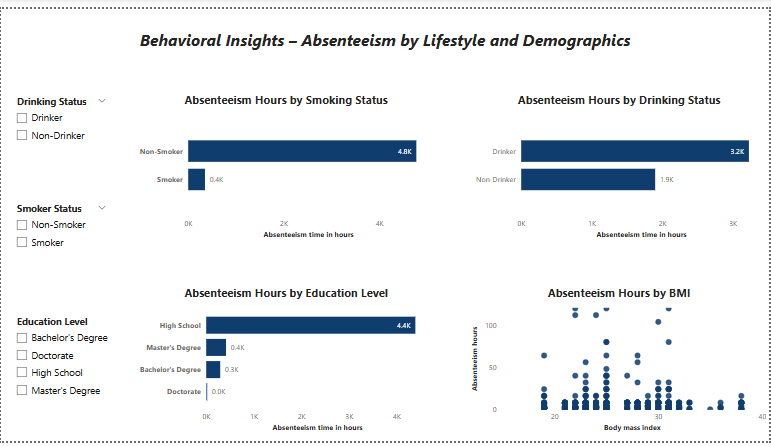

What the dashboard file says about the page in this screenshot:
{"tool":"powerbi","page":{"name":"Health and Behavior Insights","canvas":[1280,720],"ordinal":1},"visuals":[{"type":"clusteredBarChart","title":"Absenteeism Hours by Smoking Status","fields":{"Category":["Absenteeism_at_work.Smoker Status"],"Y":["Sum(Absenteeism_at_work.Absenteeism time in hours)"]},"box":[225.4,139,500.5,250.2],"z":0},{"type":"clusteredBarChart","title":"Absenteeism Hours by Drinking Status","fields":{"Y":["Sum(Absenteeism_at_work.Absenteeism time in hours)"],"Category":["Absenteeism_at_work.Drinking Status"]},"box":[780,139,500.5,250.2],"z":1000},{"type":"scatterChart","title":"Absenteeism Hours by BMI","fields":{"X":["Sum(Absenteeism_at_work.Body mass index)"],"Y":["Sum(Absenteeism_at_work.Absenteeism time in hours)"],"Category":["Absenteeism_at_work.ID"]},"box":[780,459.5,500.5,250.2],"z":2000},{"type":"clusteredBarChart","title":"Absenteeism Hours by Education Level","fields":{"Category":["Absenteeism_at_work.Education Level"],"Y":["Sum(Absenteeism_at_work.Absenteeism time in hours)"]},"box":[225.4,459.5,500.5,250.2],"z":3000},{"type":"textbox","box":[0,27.8,1280.5,77.6],"z":4000},{"type":"slicer","fields":{"Values":["Absenteeism_at_work.Drinking Status"]},"box":[13.2,139,174.1,144.9],"z":5000},{"type":"slicer","fields":{"Values":["Absenteeism_at_work.Smoker Status"]},"box":[13.2,316.1,174.1,158],"z":6000},{"type":"slicer","fields":{"Values":["Absenteeism_at_work.Education Level"]},"box":[13.2,504.9,174.1,188.8],"z":7000}]}

Visuals, with their boxes in screenshot pixels (x1, y1, x2, y2), scaled from the page's 1280x720 canvas onto the 771x447 screenshot:
"Absenteeism Hours by Smoking Status" clusteredBarChart: 136:86:437:242
"Absenteeism Hours by Drinking Status" clusteredBarChart: 470:86:770:242
"Absenteeism Hours by BMI" scatterChart: 470:285:770:441
"Absenteeism Hours by Education Level" clusteredBarChart: 136:285:437:441
textbox: 0:17:770:65
slicer - Absenteeism_at_work.Drinking Status: 8:86:113:176
slicer - Absenteeism_at_work.Smoker Status: 8:196:113:294
slicer - Absenteeism_at_work.Education Level: 8:313:113:431
